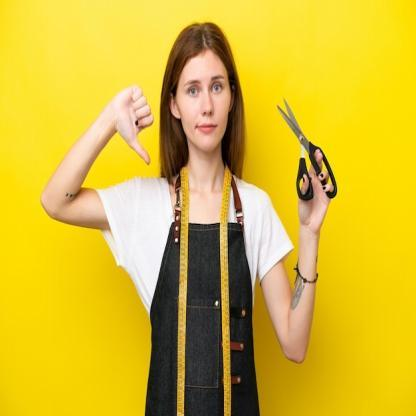thumb_down: (109, 80, 155, 170)
